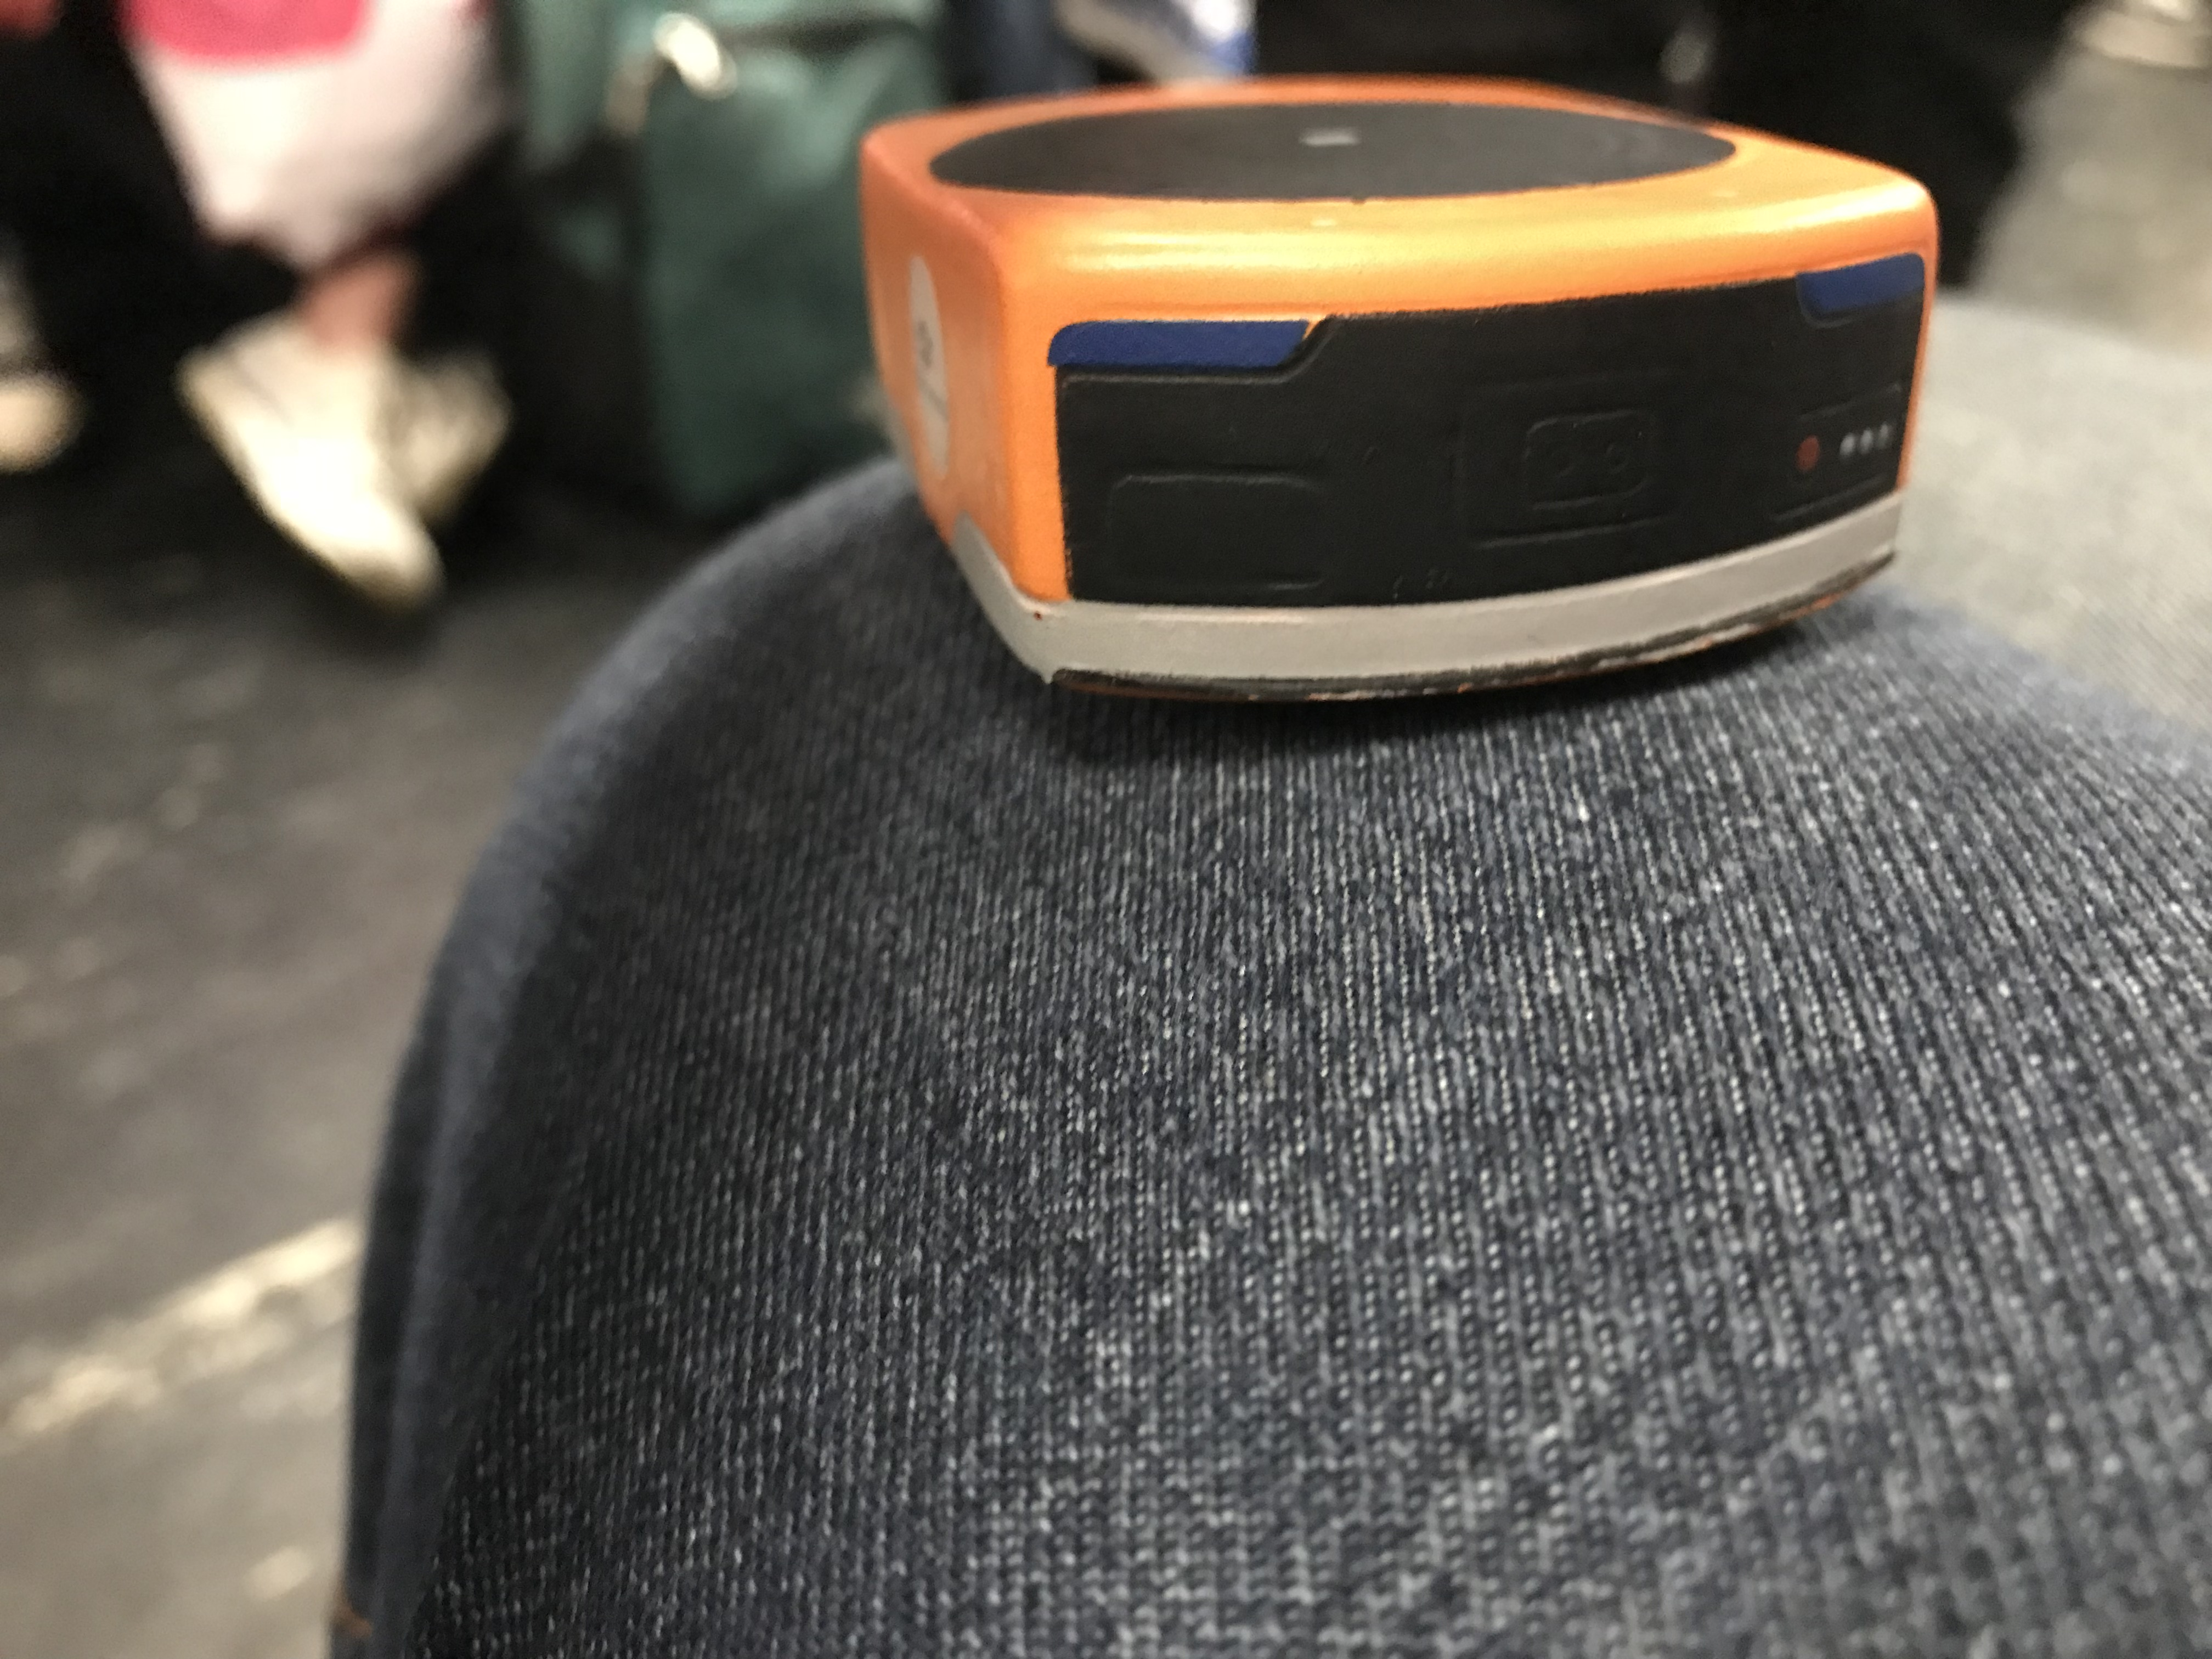amazon_bot: (840, 61, 1926, 732)
